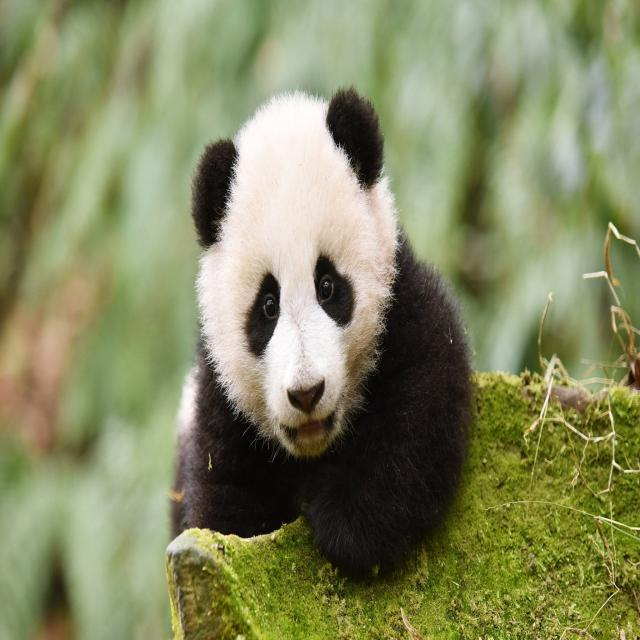Panda: (161, 87, 483, 598)
